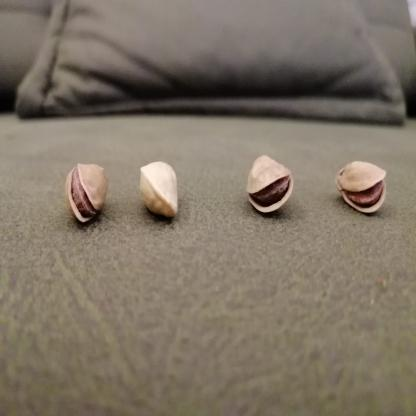pistachio: (331, 155, 395, 219), (242, 148, 297, 217), (137, 152, 186, 222), (66, 159, 115, 226)
